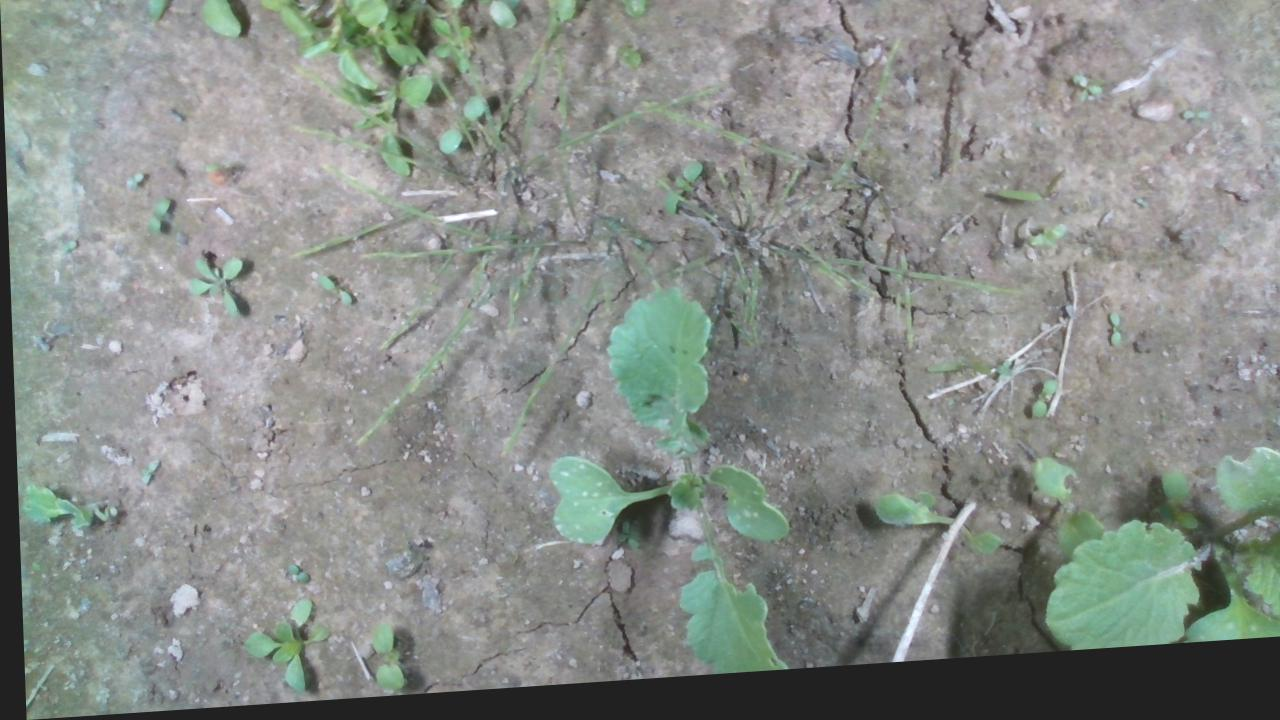weed: (173, 248, 253, 321), (362, 627, 400, 696), (138, 195, 187, 238), (305, 270, 358, 309), (1065, 84, 1104, 125), (1025, 390, 1056, 432), (135, 456, 162, 491), (120, 168, 157, 193), (1104, 326, 1119, 361)
